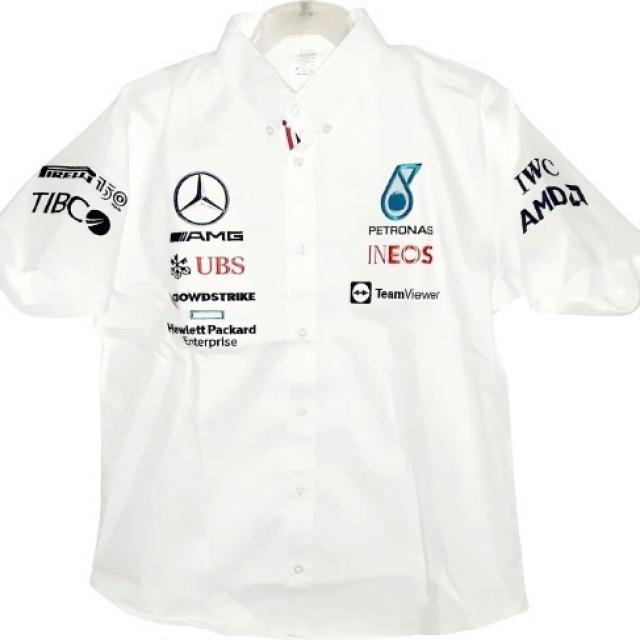TeamViewer: (347, 277, 442, 306)
